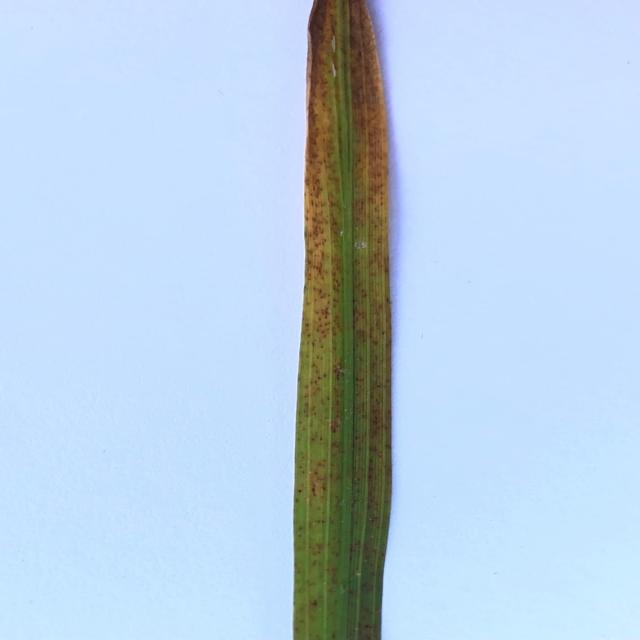tungro: (346, 0, 391, 385), (304, 0, 340, 369)
